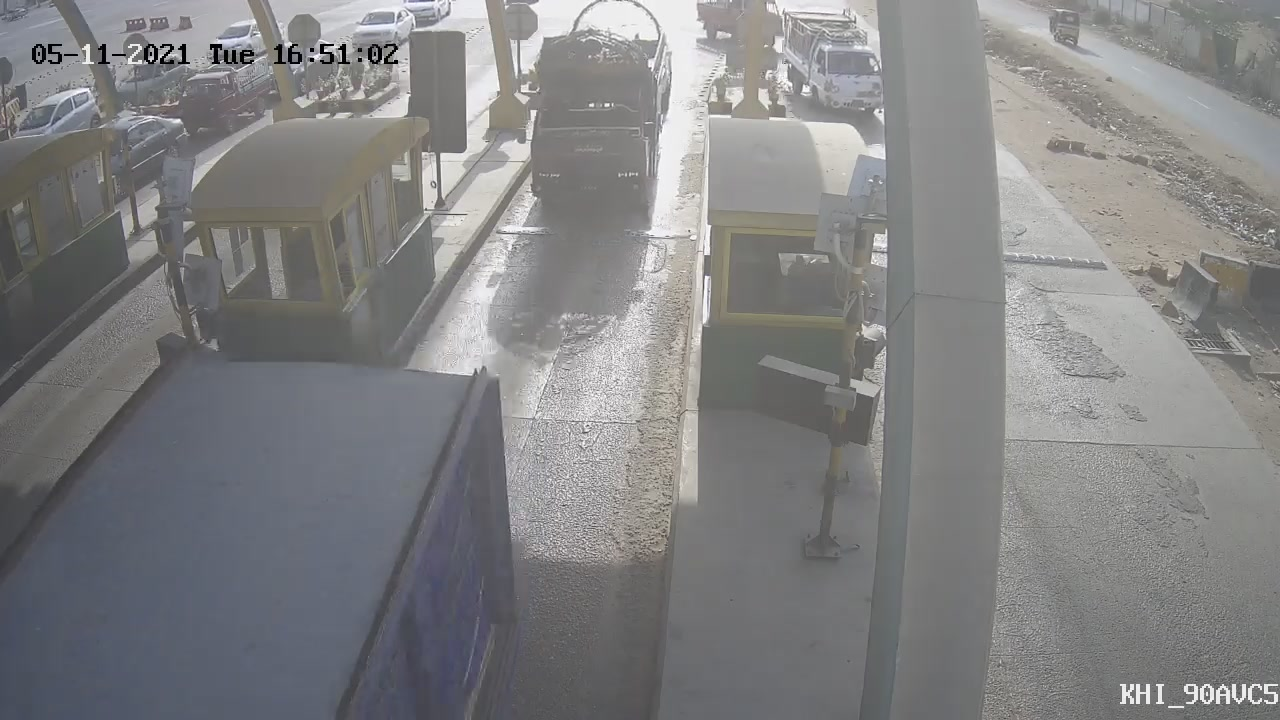F5: (515, 2, 682, 230)
